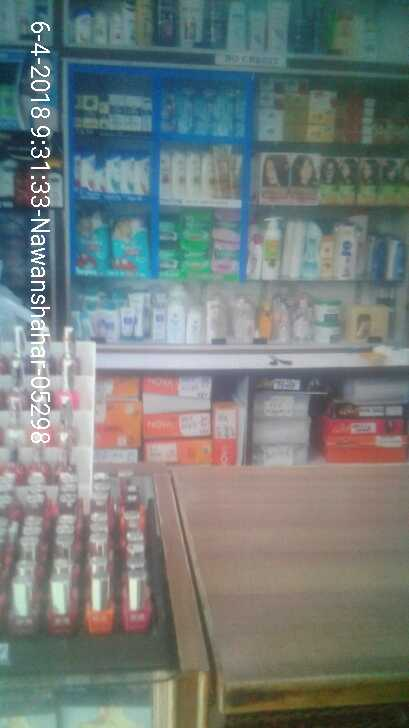venus: (201, 85, 224, 137), (177, 85, 201, 134), (224, 86, 245, 137)
